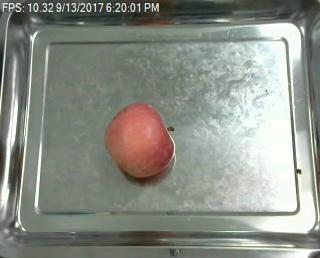apple: (103, 103, 178, 179)
